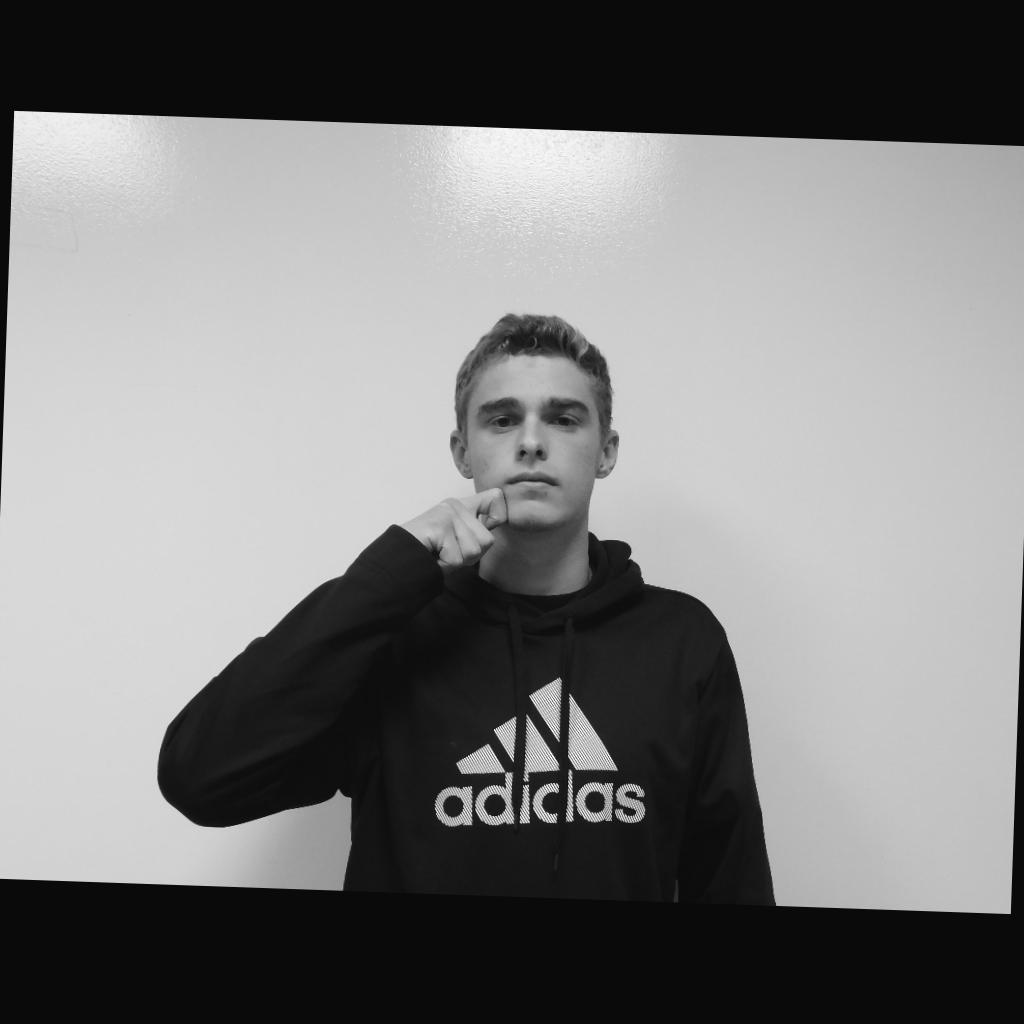apple: (401, 484, 508, 570)
